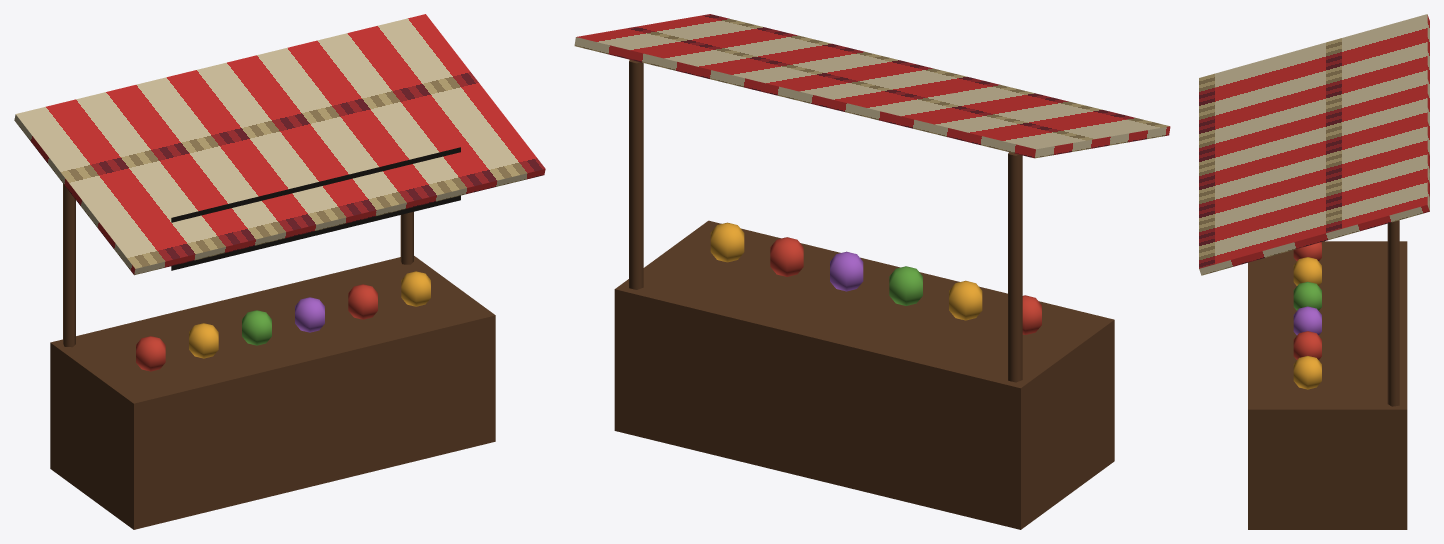
File: Stand_1.glb
The picture shows the model from 3 angles, left to right: view 1: azimuth 30°, elevation 25°; view 2: azimuth 150°, elevation 25°; view 3: azimuth 270°, elevation 25°; orthographic projection. The views are drawn at different scales.
Parts seen in each view (by area): view 1: Stand_1; view 2: Stand_1; view 3: Stand_1.
Boxes of the visible parts, x1,y1,x2,y2 form: Stand_1: (14,14,545,529); Stand_1: (574,14,1170,529); Stand_1: (1199,14,1429,529).
Bounding box in the file's own units: 3.4 × 2.79 × 1.74.
9 materials, 2 textured.
